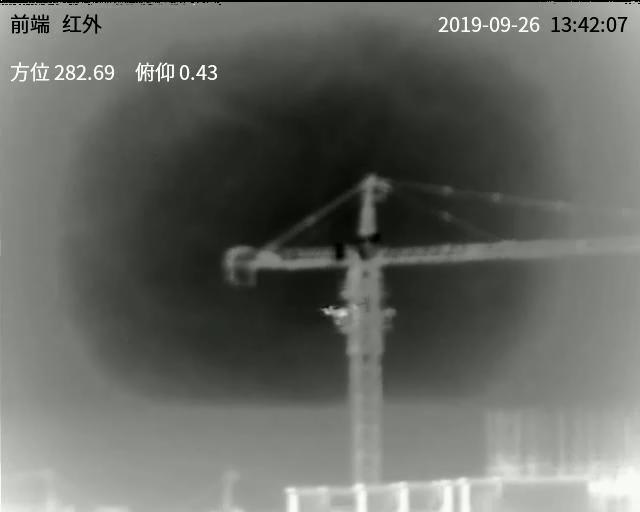uav: (316, 300, 364, 328)
